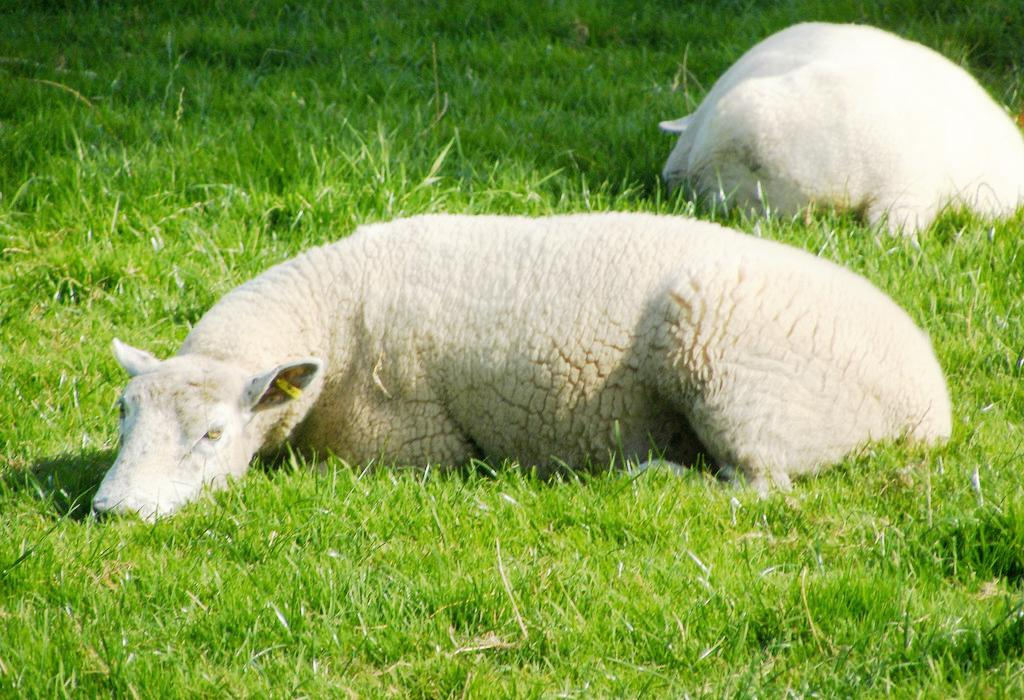Sheep: (88, 210, 954, 530), (656, 13, 1024, 239)
